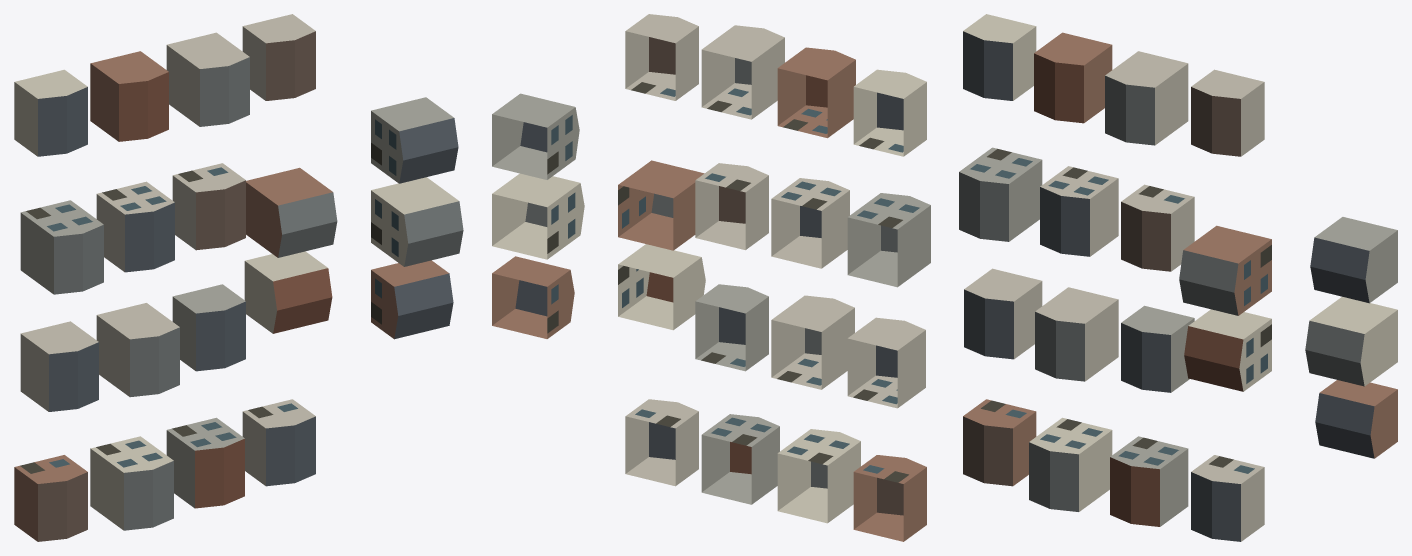
The model's file is street_blocks.obj.
The picture shows the model from 3 angles, left to right: view 1: azimuth 30°, elevation 25°; view 2: azimuth 150°, elevation 25°; view 3: azimuth 330°, elevation 25°; orthographic projection.
Visible parts, largest first — view 1: street_blocks; view 2: street_blocks; view 3: street_blocks.
Boxes of the visible parts, x1,y1,x2,y2 form: street_blocks: [14, 14, 463, 541]; street_blocks: [492, 14, 930, 541]; street_blocks: [959, 14, 1397, 541].
Size of the model in its own units: 47.65 by 49 by 7.5.
